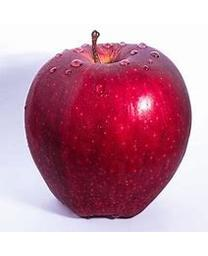apple: (22, 30, 191, 219)
